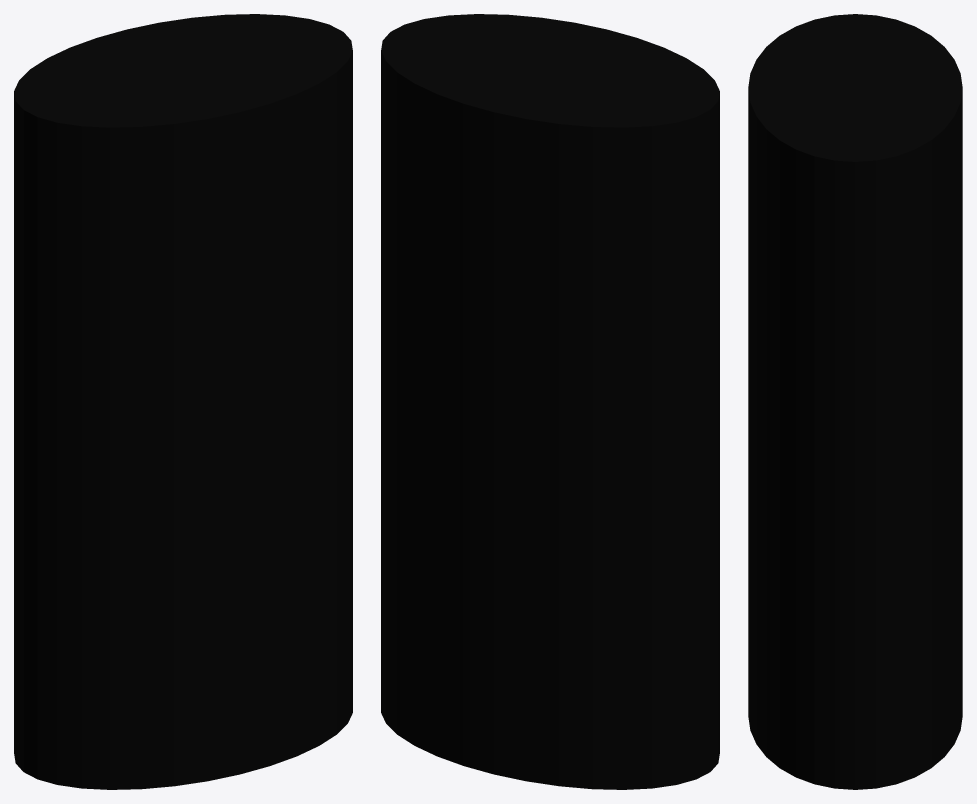
The model's file is hokakuteki_eye.fbx.
The picture shows the model from 3 angles, left to right: view 1: azimuth 30°, elevation 25°; view 2: azimuth 150°, elevation 25°; view 3: azimuth 270°, elevation 25°; orthographic projection. The views are drawn at different scales.
Parts seen in each view (by area): view 1: 立方体.004; view 2: 立方体.004; view 3: 立方体.004.
Boxes of the visible parts, x1,y1,x2,y2 form: 立方体.004: (14, 14, 352, 789); 立方体.004: (381, 14, 719, 789); 立方体.004: (748, 14, 962, 789).
Size of the model in its own units: 34.45 by 56.25 by 111.
